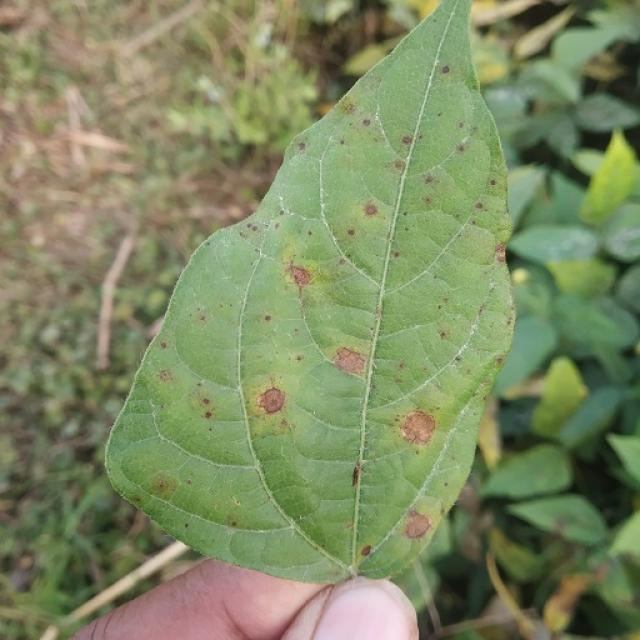Anthracnose: (399, 408, 438, 446), (334, 344, 371, 380), (256, 385, 288, 416), (402, 510, 432, 540), (285, 262, 312, 290), (149, 474, 174, 497), (351, 461, 363, 487), (494, 242, 507, 262), (158, 369, 173, 382), (364, 203, 378, 216), (360, 545, 372, 557), (394, 160, 406, 171), (401, 135, 413, 145), (424, 175, 434, 184), (347, 228, 355, 236)
Blackgram: (105, 0, 514, 581)
